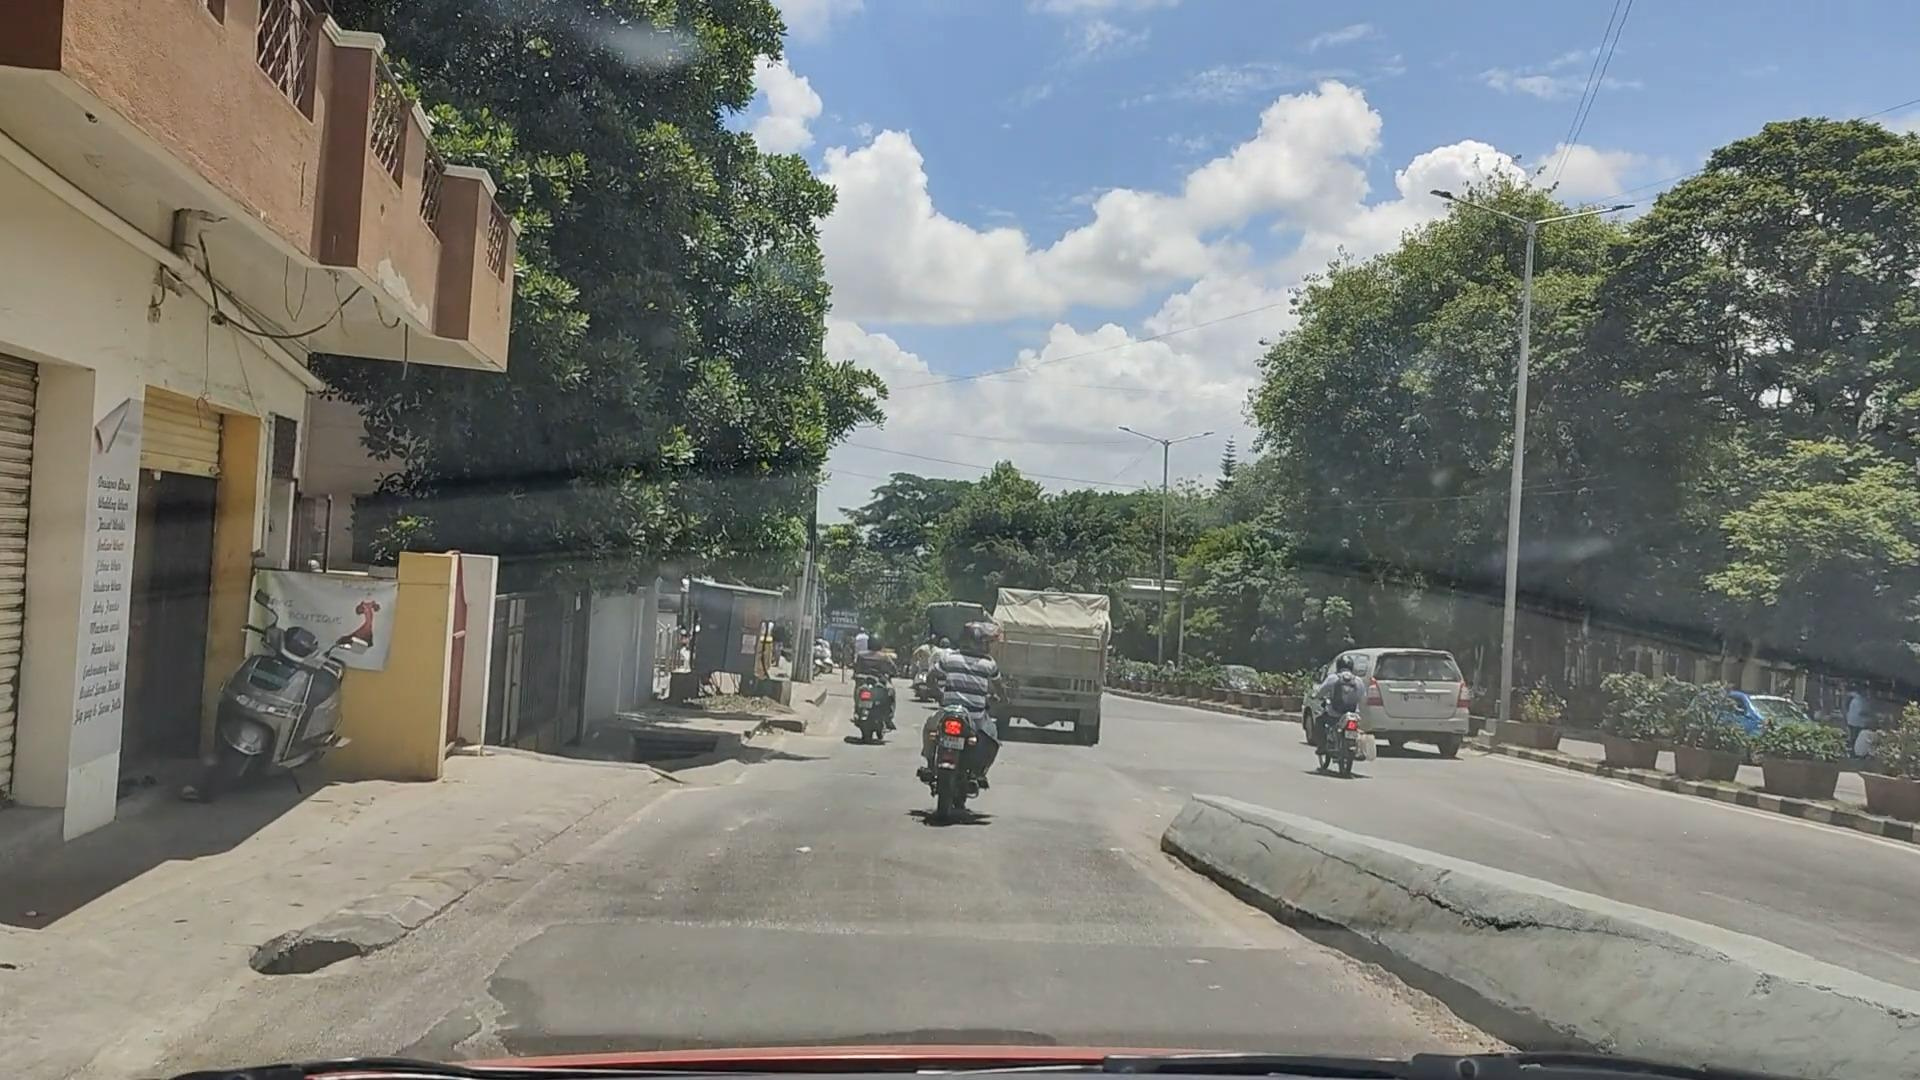HMV: (963, 567, 1127, 742)
LMV: (200, 572, 400, 799)
RoadDamages: (210, 894, 411, 1003)
